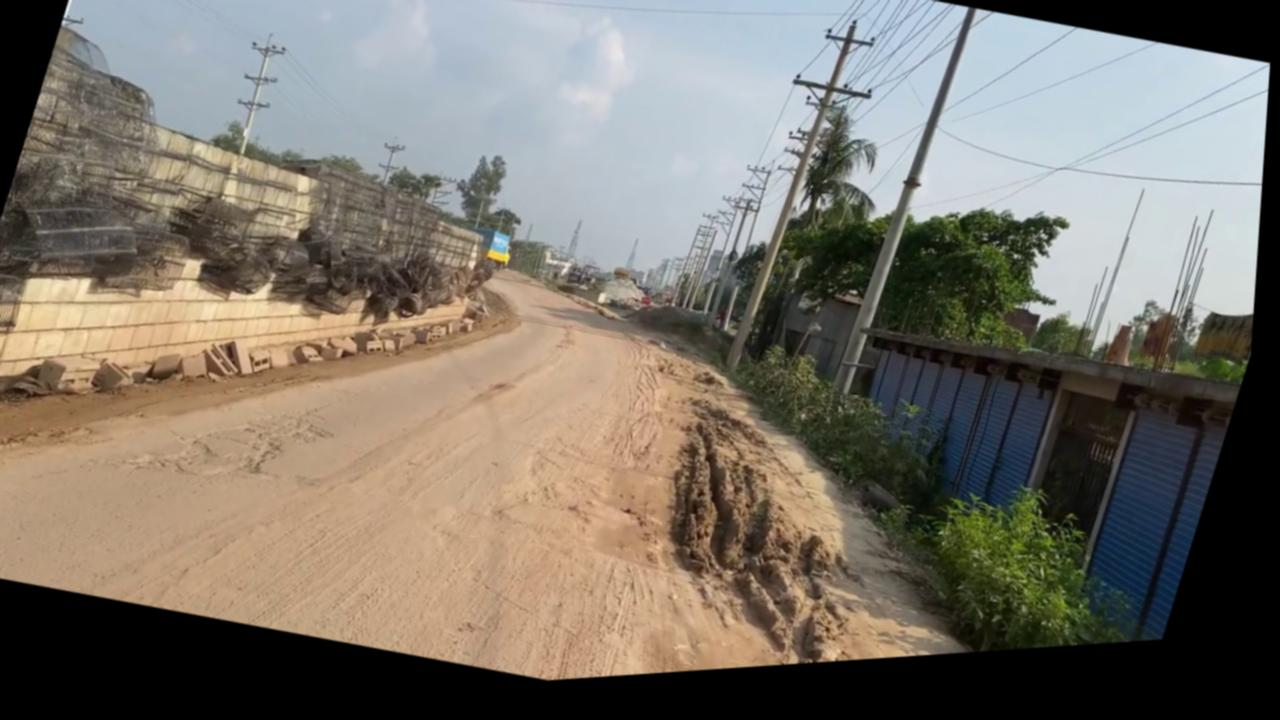Pole: (709, 18, 895, 395), (835, 16, 977, 411)
Rickshaw: (508, 288, 1138, 691)
Traffic-sign: (447, 152, 515, 241)
Tree: (532, 248, 668, 330), (597, 270, 662, 326), (538, 253, 609, 302), (539, 253, 581, 293), (568, 266, 607, 300)
Upstairs: (0, 4, 549, 514)
